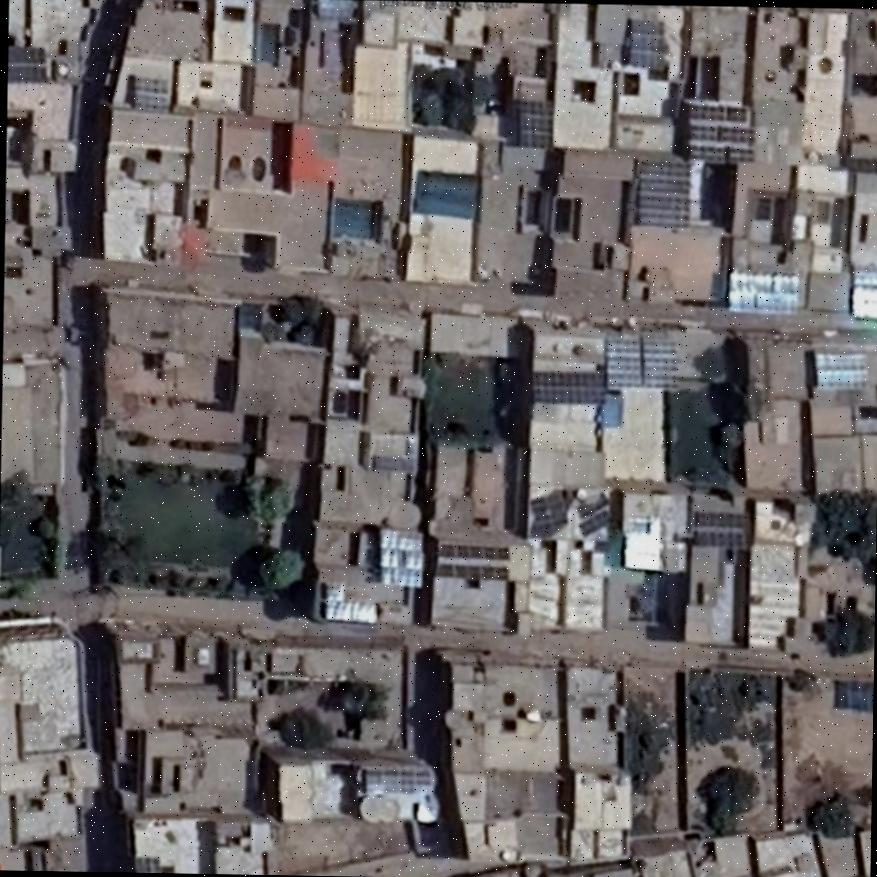Solarpanel: (606, 330, 678, 388), (634, 156, 691, 223), (729, 268, 800, 315), (381, 528, 422, 585), (530, 371, 605, 402), (813, 352, 866, 387), (693, 513, 747, 546), (628, 17, 662, 68), (364, 766, 432, 790), (516, 101, 554, 143), (6, 44, 47, 81), (131, 76, 169, 111), (437, 562, 510, 579), (688, 145, 755, 162), (530, 495, 566, 524), (687, 125, 752, 140), (688, 104, 746, 120), (579, 508, 613, 534), (442, 544, 508, 557)
